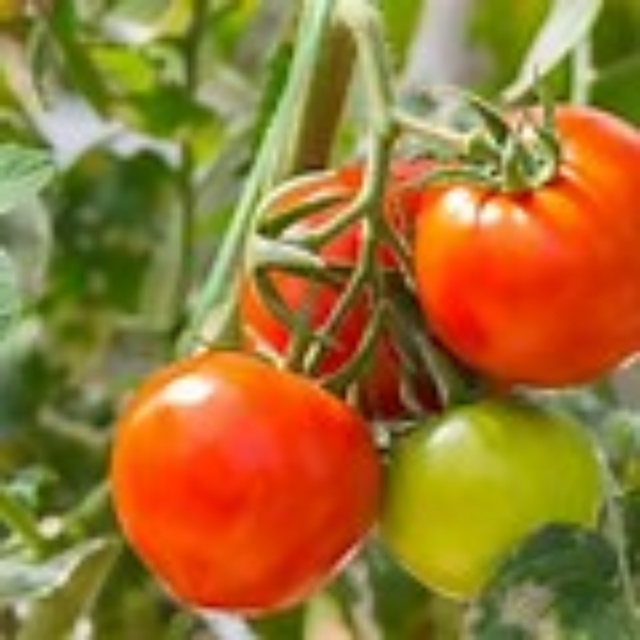tomato: (96, 354, 393, 618), (411, 98, 639, 392), (231, 151, 453, 424), (376, 394, 604, 599)
